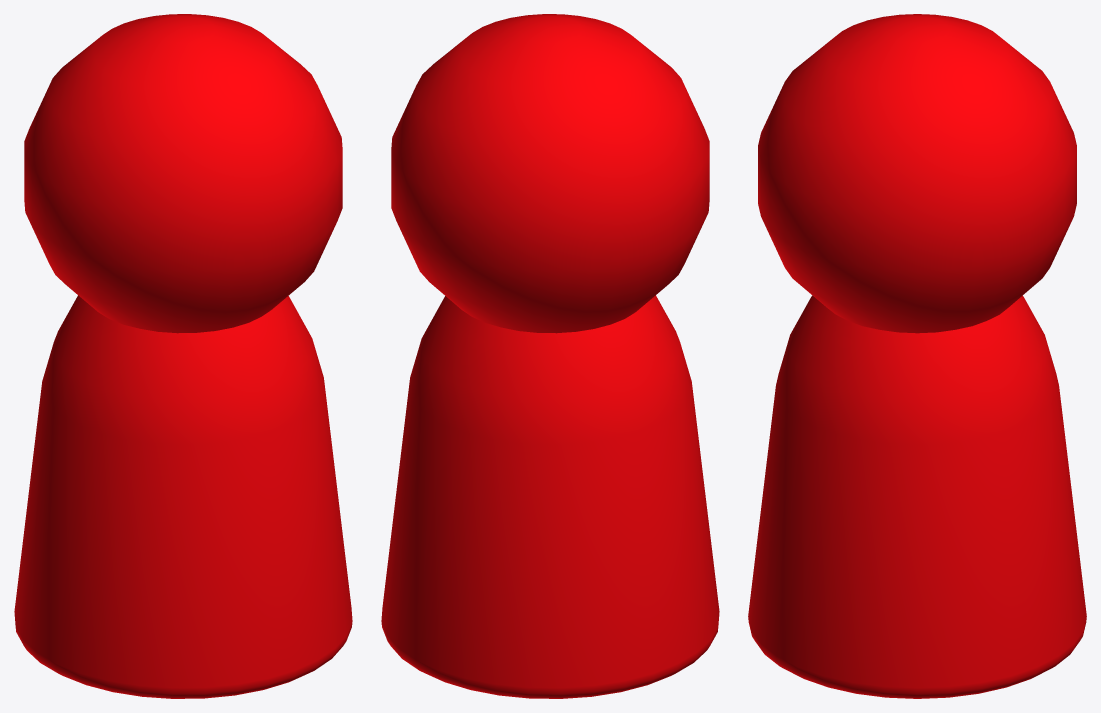
The model's file is Figure.glb.
3 renders of one model, left to right at view 1: azimuth 30°, elevation 25°; view 2: azimuth 150°, elevation 25°; view 3: azimuth 270°, elevation 25°, orthographic.
Parts seen in each view (by area): view 1: Figure; view 2: Figure; view 3: Figure.
Part boxes in pixels (left/top/right/bottom): Figure: left=14, top=14, right=352, bottom=698; Figure: left=381, top=14, right=719, bottom=698; Figure: left=748, top=14, right=1086, bottom=698.
Bounding box in the file's own units: 1.89 × 3.72 × 1.89.
